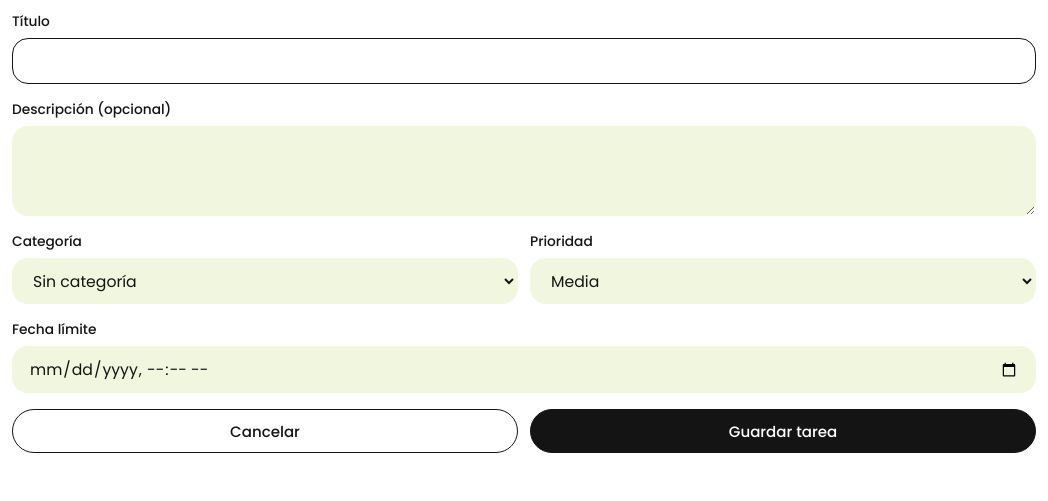
Test: TareaForm › no envía el formulario si falta el título
Click the button "Guardar tarea".
click(783, 431)  # box x1=530 y1=409 x2=1036 y2=453
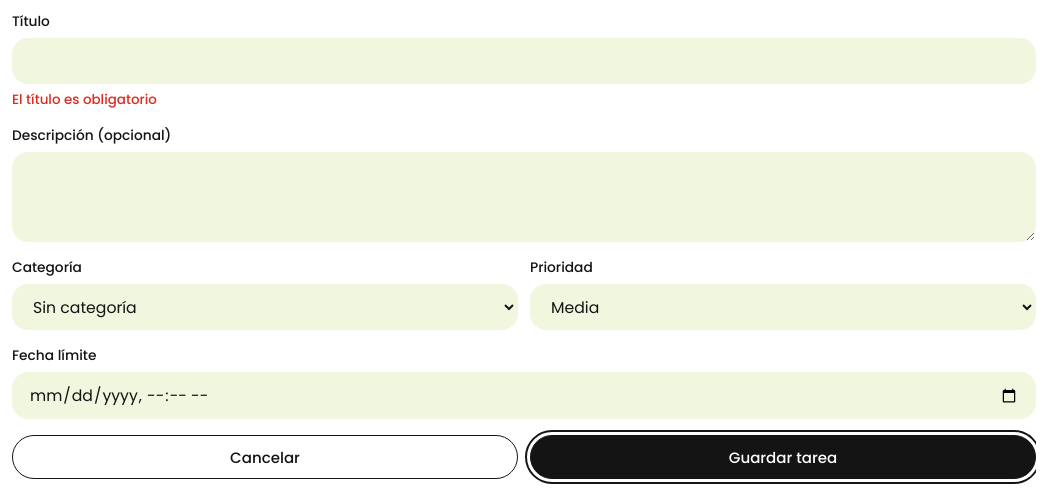
Expected: the text "El título es obligatorio" is shown, x1=12 y1=90 x2=157 y2=109
